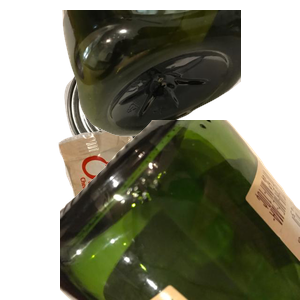glass: (60, 120, 300, 300)
metal: (62, 43, 232, 198)
plastic: (60, 10, 300, 139)
trash: (56, 120, 229, 300)
